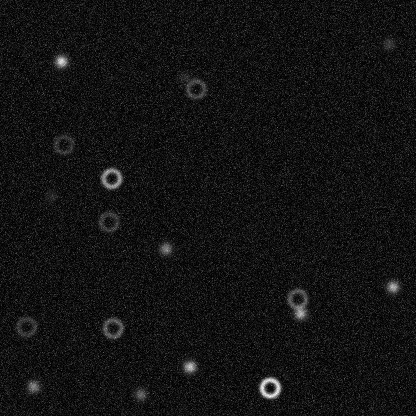Ring: (100, 316, 124, 340), (183, 76, 207, 100), (51, 132, 75, 156), (99, 166, 123, 190), (14, 314, 38, 338), (96, 209, 120, 233), (285, 286, 309, 310), (257, 375, 281, 399)
Spot: (43, 187, 59, 203), (53, 53, 69, 69), (132, 386, 148, 402), (25, 378, 41, 394), (292, 305, 308, 321), (157, 240, 173, 256), (181, 358, 197, 374), (384, 278, 400, 294), (176, 68, 192, 84), (380, 35, 396, 51)
